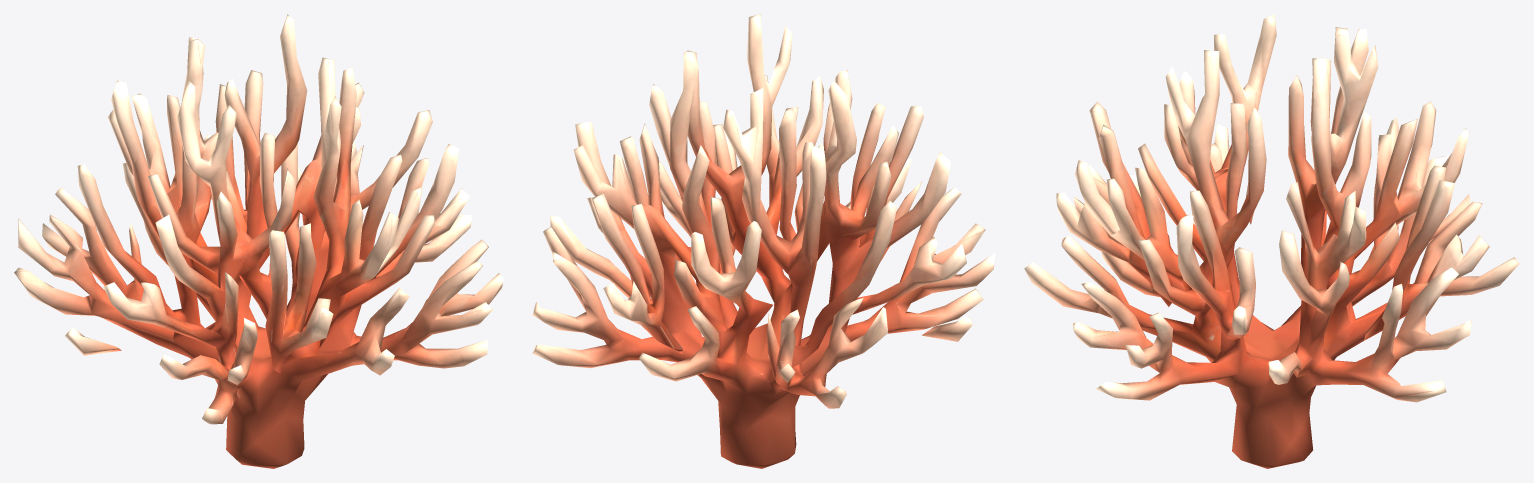
The picture shows the model from 3 angles, left to right: view 1: azimuth 30°, elevation 25°; view 2: azimuth 150°, elevation 25°; view 3: azimuth 270°, elevation 25°; orthographic projection. The views are drawn at different scales.
Visible parts, largest first — view 1: Mesh_0; view 2: Mesh_0; view 3: Mesh_0.
Part boxes in pixels (x1,y1,x2,y2): Mesh_0: (14, 14, 503, 468); Mesh_0: (532, 14, 995, 468); Mesh_0: (1024, 14, 1519, 468).
Bounding box in the file's own units: 1.91 × 1.81 × 1.92.
1 material, 1 textured.
